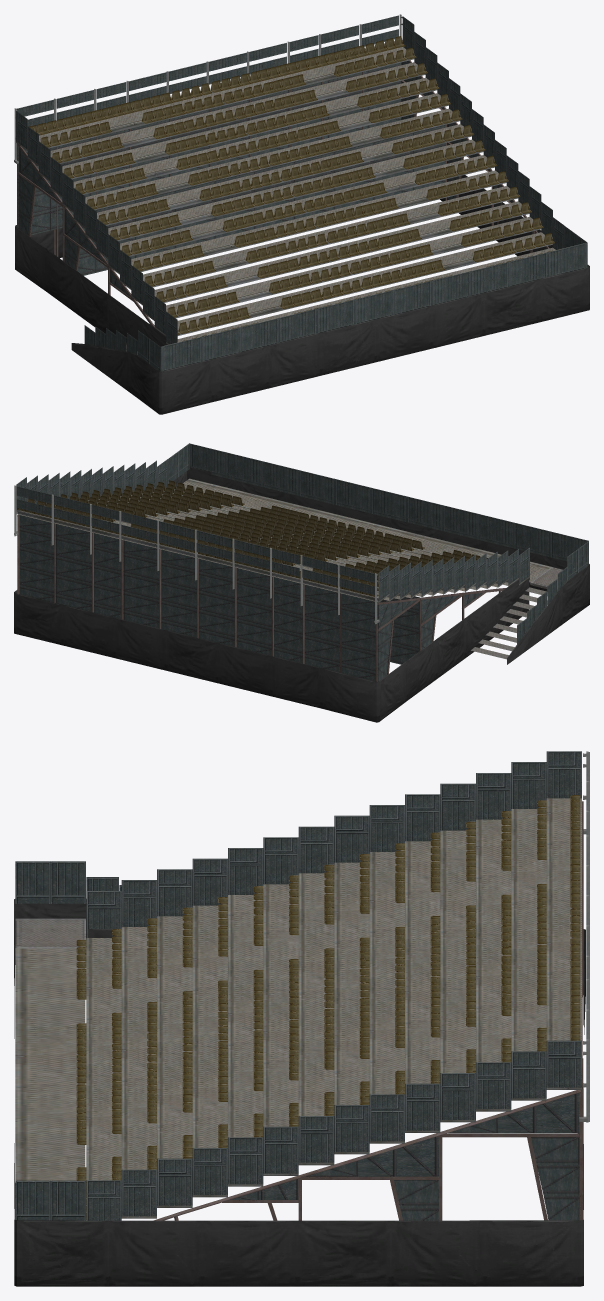
Rendered from generic medium.obj.
3 renders of one model, top to bottom at view 1: azimuth 30°, elevation 25°; view 2: azimuth 150°, elevation 25°; view 3: azimuth 270°, elevation 25°, orthographic. The views are drawn at different scales.
Visible parts, largest first — view 1: Node_013_mel_grandstand_genericmedium_a_physics_bk; view 2: Node_013_mel_grandstand_genericmedium_a_physics_bk; view 3: Node_013_mel_grandstand_genericmedium_a_physics_bk.
Boxes of the visible parts, left/top/right/bottom form: Node_013_mel_grandstand_genericmedium_a_physics_bk: left=14, top=14, right=589, bottom=414; Node_013_mel_grandstand_genericmedium_a_physics_bk: left=14, top=443, right=589, bottom=722; Node_013_mel_grandstand_genericmedium_a_physics_bk: left=14, top=751, right=589, bottom=1286.
Size of the model in its own units: 23.67 by 8.38 by 17.87.
Materials: 3 (3 with a texture image).
